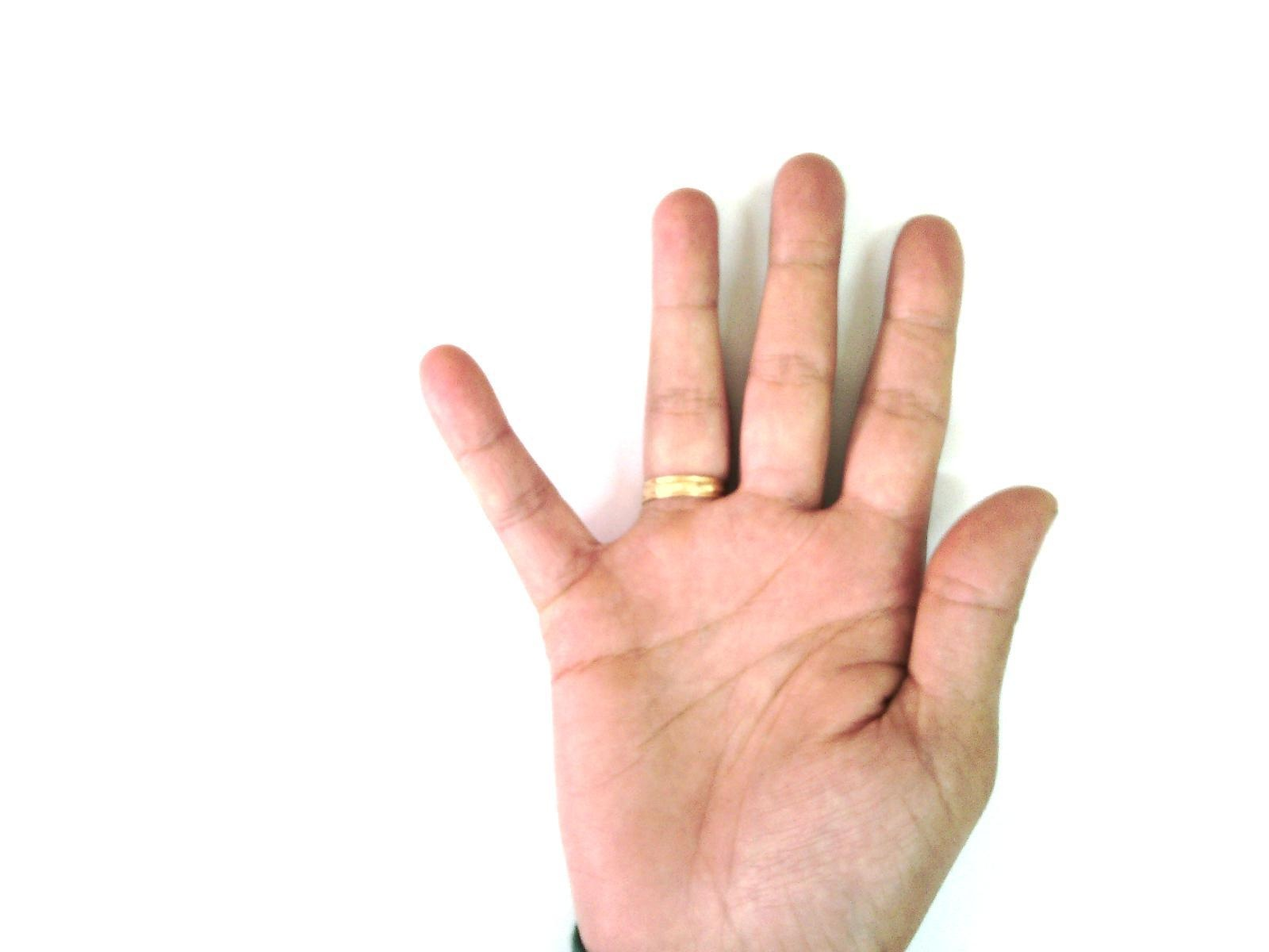open_palm: (416, 152, 1060, 951)
